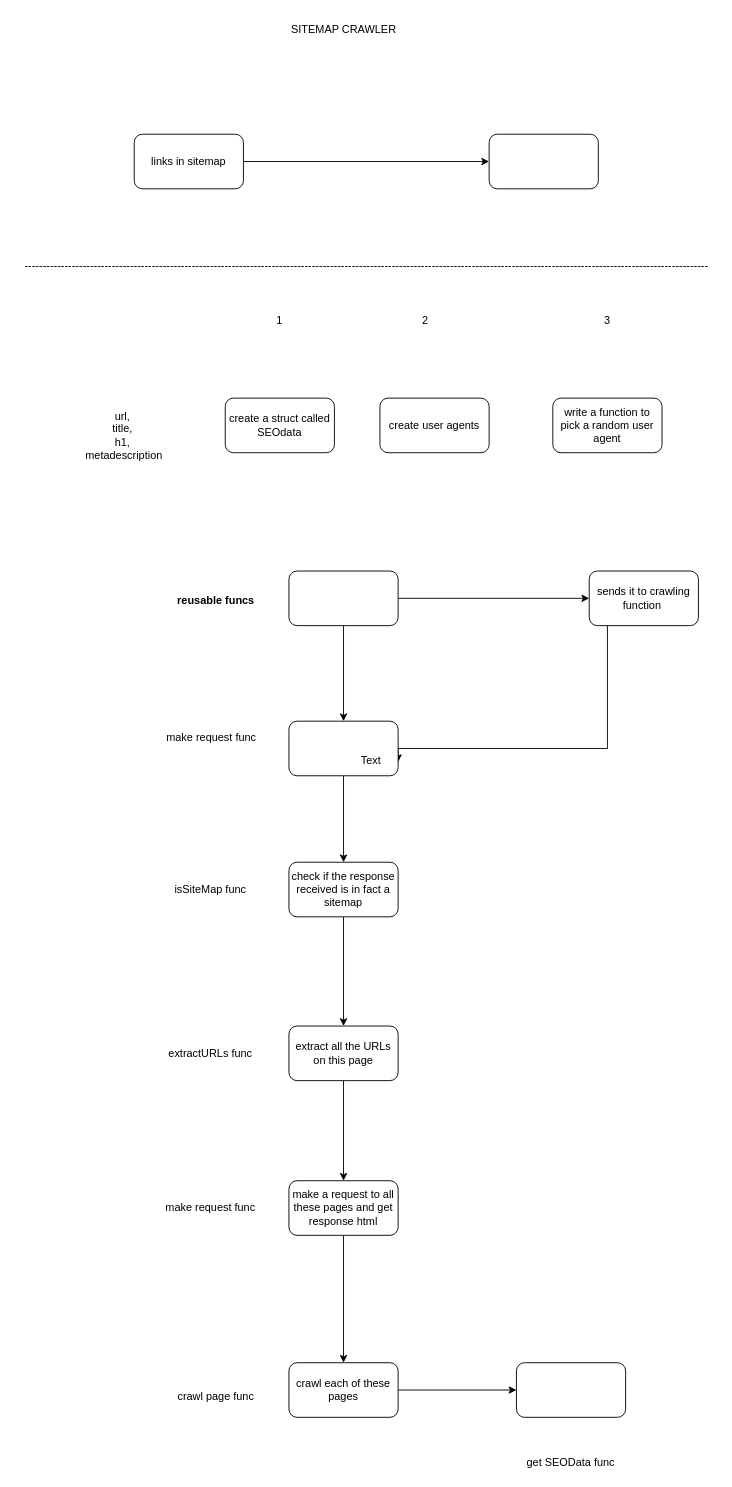
Image size: 732x1487. Some labels were removed from this diagram. The box of each missing label's shape, as (x1, y1, x2, y2) in pixels:
convert into usable SEO data: (516, 1362, 626, 1417)
main function defines an xml file, or a sitemap: (288, 570, 398, 626)
send a GET request to this page and get a response: (288, 720, 398, 776)
visiting each link: (488, 133, 598, 189)
